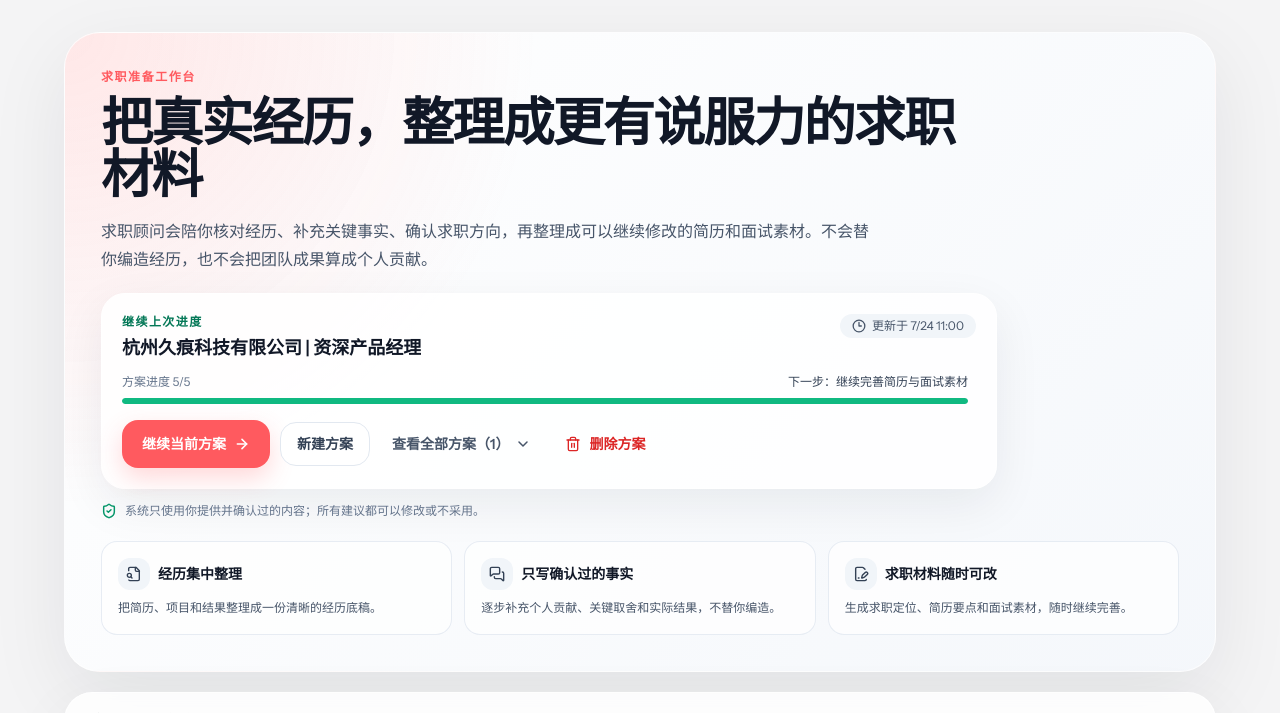
App › does not let a legacy resume asset unlock Step 7
The width and height of the screenshot is (1280, 713).
Click the button "继续当前方案": {"x": 196, "y": 444} [122,420,270,468]
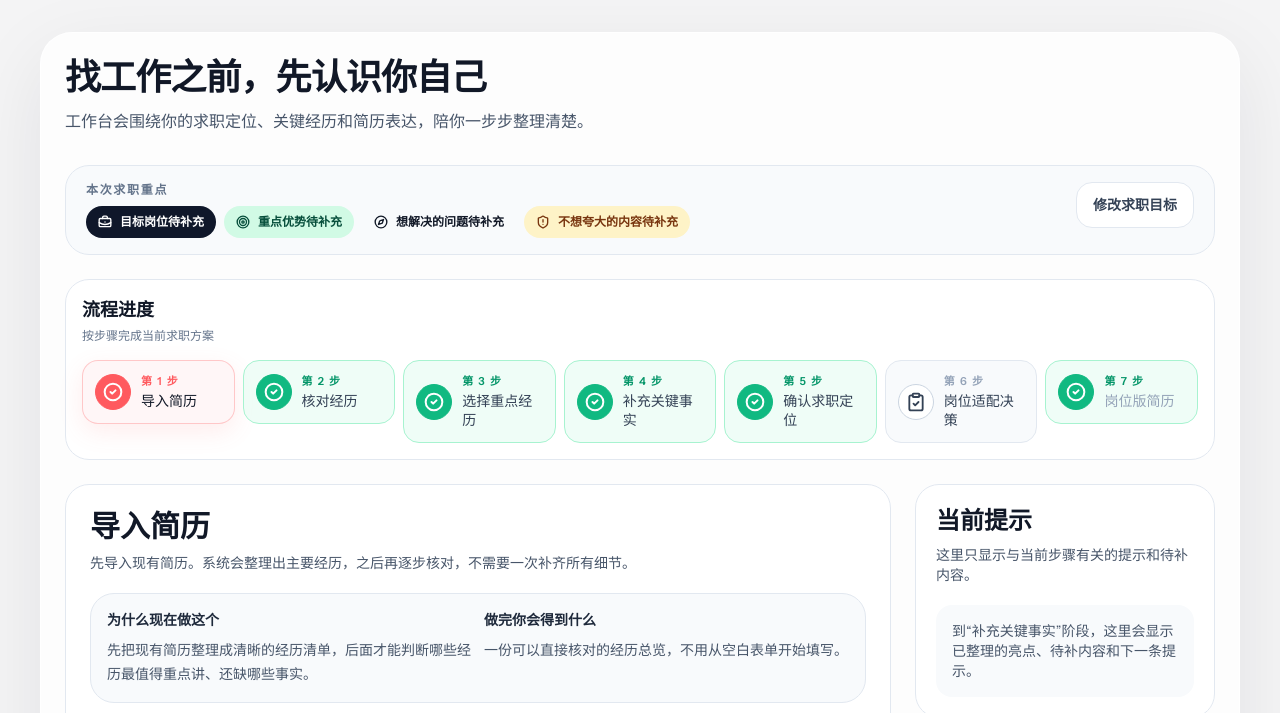
Check: the button "第 7 步 岗位版简历" is disabled, box [1045,360,1198,424]
